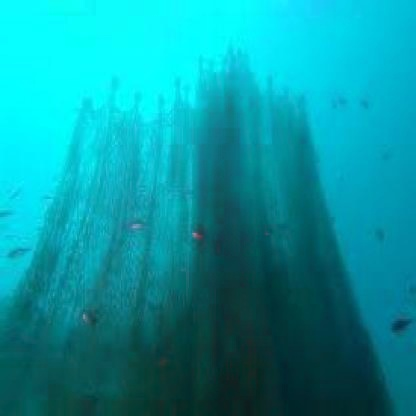net: (42, 63, 337, 324)
